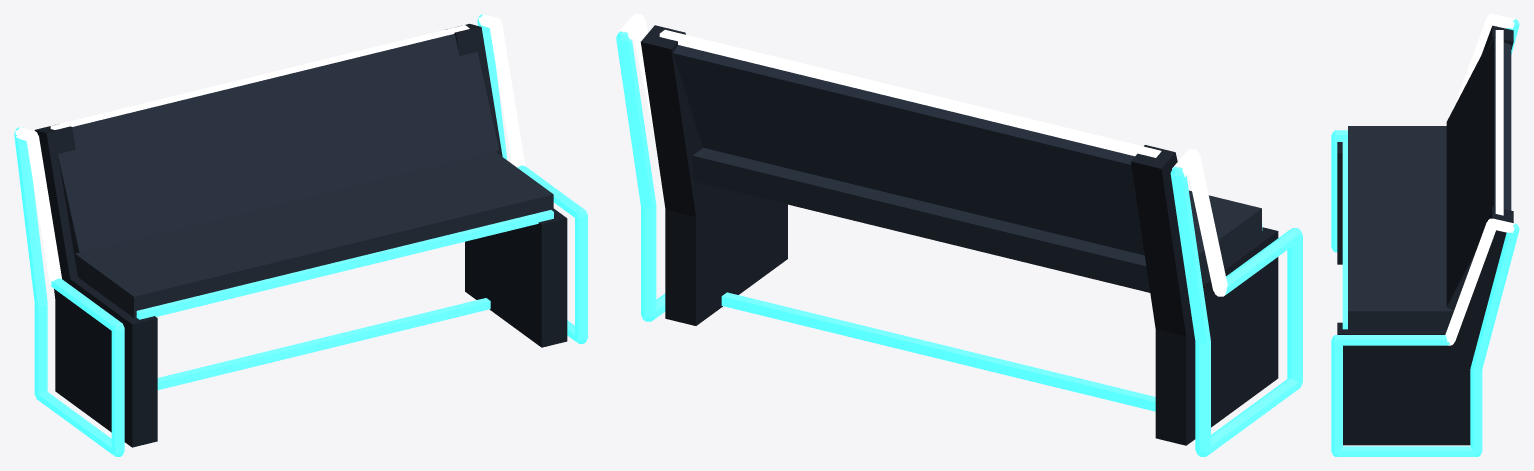
Rendered from banca-futurista-neon.glb.
3 renders of one model, left to right at view 1: azimuth 30°, elevation 25°; view 2: azimuth 150°, elevation 25°; view 3: azimuth 270°, elevation 25°, orthographic. The views are drawn at different scales.
Visible parts, largest first — view 1: Banca_Futurista_Neon_AsientoOscuro, Banca_Futurista_Neon_PlacaLateral, Banca_Futurista_Neon_NeonCian, Banca_Futurista_Neon_NeonBlanco; view 2: Banca_Futurista_Neon_AsientoOscuro, Banca_Futurista_Neon_PlacaLateral, Banca_Futurista_Neon_NeonCian, Banca_Futurista_Neon_NeonBlanco; view 3: Banca_Futurista_Neon_AsientoOscuro, Banca_Futurista_Neon_PlacaLateral, Banca_Futurista_Neon_NeonCian, Banca_Futurista_Neon_NeonBlanco.
Boxes of the visible parts, left/top/right/bottom form: Banca_Futurista_Neon_AsientoOscuro: left=58, top=34, right=553, bottom=317; Banca_Futurista_Neon_PlacaLateral: left=34, top=23, right=567, bottom=447; Banca_Futurista_Neon_NeonCian: left=14, top=14, right=587, bottom=456; Banca_Futurista_Neon_NeonBlanco: left=15, top=14, right=525, bottom=285; Banca_Futurista_Neon_AsientoOscuro: left=673, top=45, right=1261, bottom=292; Banca_Futurista_Neon_PlacaLateral: left=640, top=25, right=1278, bottom=445; Banca_Futurista_Neon_NeonCian: left=616, top=31, right=1302, bottom=456; Banca_Futurista_Neon_NeonBlanco: left=617, top=14, right=1227, bottom=296; Banca_Futurista_Neon_AsientoOscuro: left=1348, top=38, right=1511, bottom=330; Banca_Futurista_Neon_PlacaLateral: left=1337, top=25, right=1513, bottom=445; Banca_Futurista_Neon_NeonCian: left=1331, top=19, right=1519, bottom=456; Banca_Futurista_Neon_NeonBlanco: left=1445, top=14, right=1514, bottom=345.
Size of the model in its own units: 1.85 by 0.984 by 0.704.
